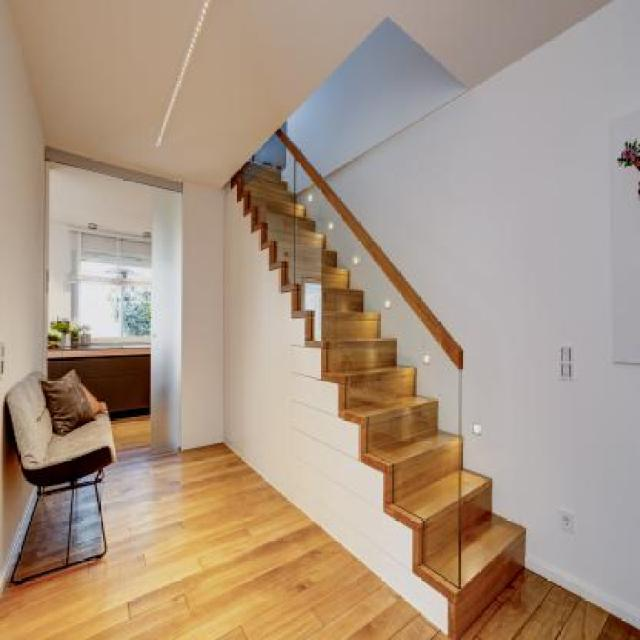stair: (222, 134, 550, 617)
